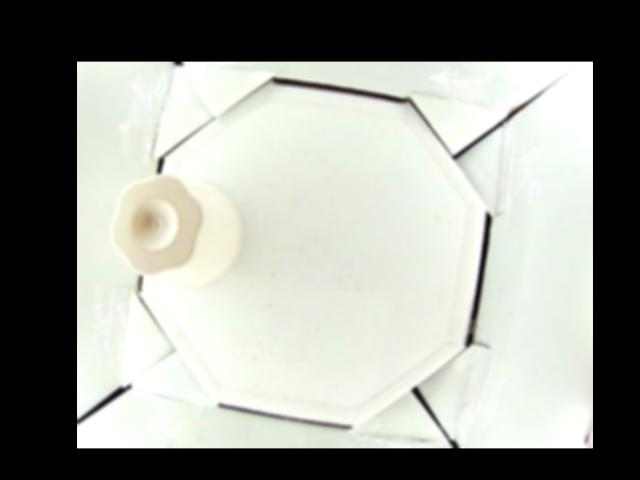Cup: (107, 176, 244, 284)
